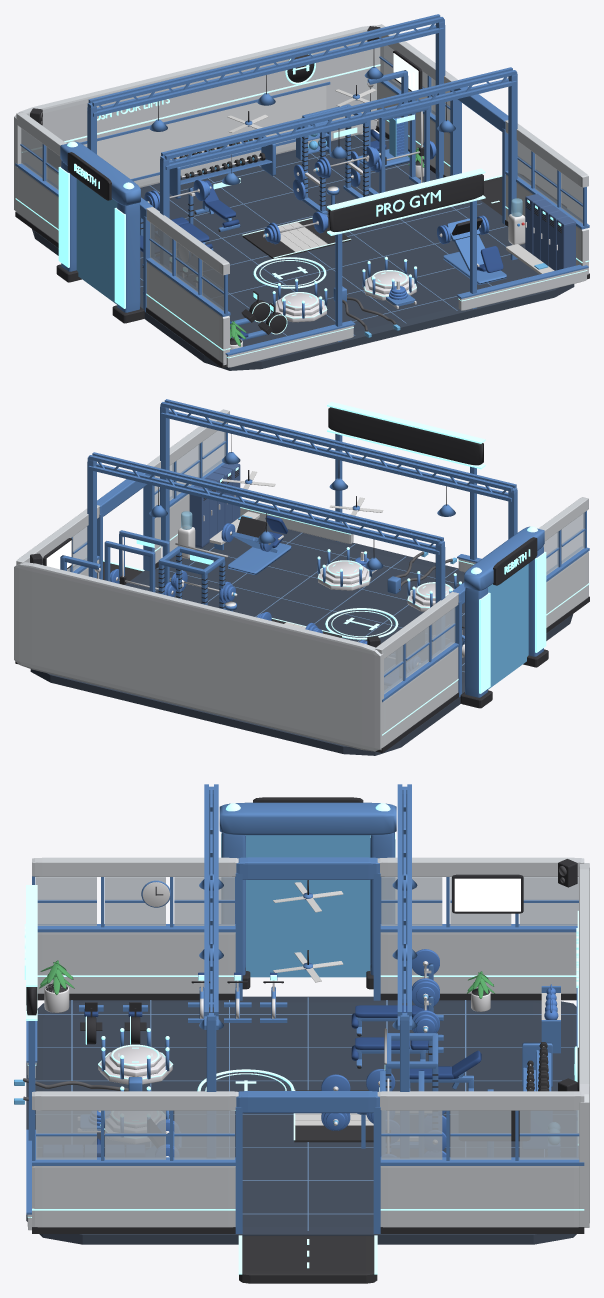
File: dm_gym3z2pro.glb
The picture shows the model from 3 angles, top to bottom: view 1: azimuth 30°, elevation 25°; view 2: azimuth 150°, elevation 25°; view 3: azimuth 270°, elevation 25°; orthographic projection. The views are drawn at different scales.
Parts seen in each view (by area): view 1: Z2_Rubber_Floor, Z2_Plaster_BackWall, Z2_Glass_Mirror, Z2_ForceField_ArchBarrier, Z2_Plaster_Wall, Z2_SmoothPlastic_ZoneSign, Z2_Metal_Truss, Z2_Metal_Truss.004, Z2_Metal_Truss.002, Z2_Metal_Truss.006, Z2_Plaster_Wall.001, Z2_Metal_ArchPillar (+56 smaller); view 2: Z2_Plaster_BackWall, Z2_Rubber_Floor, Z2_ForceField_ArchBarrier, Z2_SmoothPlastic_ZoneSign, Z2_Plaster_Wall.001, Z2_Metal_Truss.005, Z2_Metal_Truss.001, Z2_Metal_Truss.007, Z2_Metal_Truss.003, Z2_Plaster_Wall, Z2_Metal_ArchPillar.001, Z2_Metal_ArchTop (+36 smaller); view 3: Z2_Rubber_Floor, Z2_ForceField_ArchBarrier, Z2_Plaster_Wall.002, Z2_Plaster_Wall.003, Z2_Plaster_Wall, Z2_Plaster_Wall.001, Z2_Rubber_Walkway, Z2_Metal_ArchTop, Z2_Plaster_WallTop.002, Z2_Plaster_WallTop.003, Z2_Plaster_BackWall, Z2_Plaster_WallTop (+46 smaller).
Part boxes in pixels (bbox=[...]): Z2_Rubber_Floor: bbox=[32, 134, 574, 370]; Z2_Plaster_BackWall: bbox=[14, 25, 383, 212]; Z2_Glass_Mirror: bbox=[83, 85, 326, 178]; Z2_ForceField_ArchBarrier: bbox=[76, 179, 117, 304]; Z2_Plaster_Wall: bbox=[146, 262, 229, 365]; Z2_SmoothPlastic_ZoneSign: bbox=[328, 174, 483, 231]; Z2_Metal_Truss: bbox=[164, 70, 516, 159]; Z2_Metal_Truss.004: bbox=[92, 17, 443, 106]; Z2_Metal_Truss.002: bbox=[165, 81, 516, 169]; Z2_Metal_Truss.006: bbox=[93, 28, 443, 116]; Z2_Plaster_Wall.001: bbox=[17, 167, 58, 242]; Z2_Metal_ArchPillar: bbox=[117, 202, 140, 312]; Z2_Plaster_BackWall: bbox=[14, 562, 383, 751]; Z2_Rubber_Floor: bbox=[30, 524, 572, 755]; Z2_ForceField_ArchBarrier: bbox=[487, 563, 528, 689]; Z2_SmoothPlastic_ZoneSign: bbox=[328, 407, 483, 465]; Z2_Plaster_Wall.001: bbox=[379, 647, 458, 750]; Z2_Metal_Truss.005: bbox=[88, 455, 440, 544]; Z2_Metal_Truss.001: bbox=[161, 402, 512, 491]; Z2_Metal_Truss.007: bbox=[88, 466, 439, 554]; Z2_Metal_Truss.003: bbox=[161, 412, 511, 501]; Z2_Plaster_Wall: bbox=[546, 551, 588, 627]; Z2_Metal_ArchPillar.001: bbox=[465, 587, 487, 697]; Z2_Metal_ArchTop: bbox=[464, 526, 544, 590]; Z2_Rubber_Floor: bbox=[26, 996, 576, 1244]; Z2_ForceField_ArchBarrier: bbox=[246, 835, 370, 977]; Z2_Plaster_Wall.002: bbox=[32, 1166, 235, 1227]; Z2_Plaster_Wall.003: bbox=[380, 1166, 583, 1227]; Z2_Plaster_Wall: bbox=[37, 932, 235, 993]; Z2_Plaster_Wall.001: bbox=[380, 932, 576, 993]; Z2_Rubber_Walkway: bbox=[239, 1236, 377, 1283]; Z2_Metal_ArchTop: bbox=[219, 802, 396, 835]; Z2_Plaster_WallTop.002: bbox=[32, 1091, 238, 1110]; Z2_Plaster_WallTop.003: bbox=[377, 1091, 584, 1110]; Z2_Plaster_BackWall: bbox=[579, 863, 589, 1227]; Z2_Plaster_WallTop: bbox=[32, 857, 238, 876].
Size of the model in its own units: 51.03 by 18.28 by 41.7.
